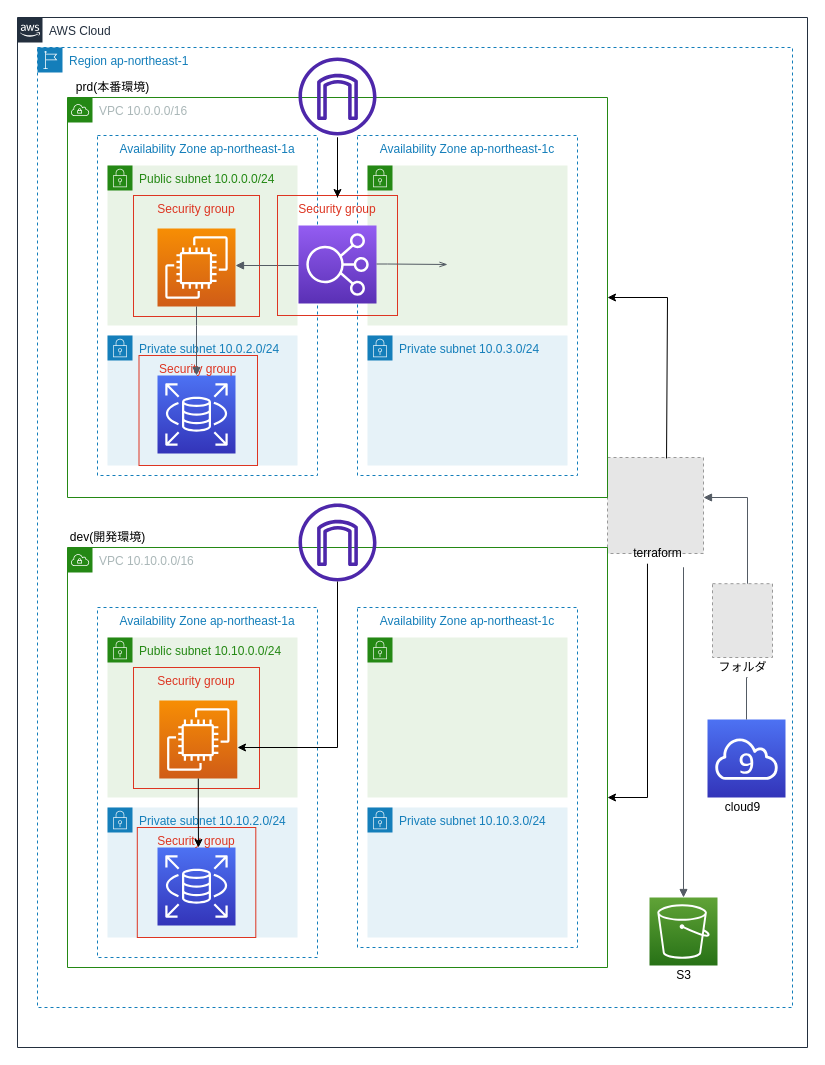
Image size: 825x1065. Some labels were removed from this diagram. Grey dashed boxes stand in for pictures. Here are the shapes that lost their labels. From the top down, the centre of each, then its label:
At point 467,245: "Public subnet 10.0.1.0/24".
At point 467,717: "Public subnet 10.10.1.0/24".
